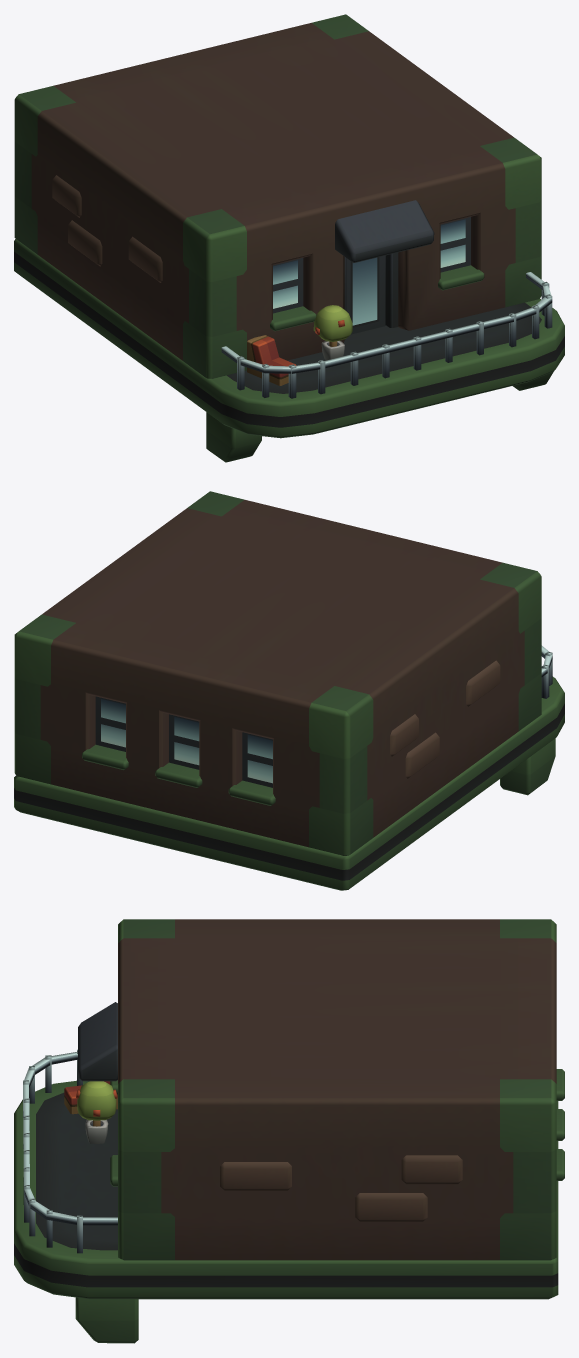
The model's file is appartment_type1_x4_balcony_brown.fbx.
The picture shows the model from 3 angles, top to bottom: view 1: azimuth 30°, elevation 25°; view 2: azimuth 150°, elevation 25°; view 3: azimuth 270°, elevation 25°; orthographic projection. The views are drawn at different scales.
Parts seen in each view (by area): view 1: appartment_type1_x4_balcony_brown, door_appartment_type1_x4_balcony_grey; view 2: appartment_type1_x4_balcony_brown; view 3: appartment_type1_x4_balcony_brown.
Boxes of the visible parts, x1,y1,x2,y2 form: appartment_type1_x4_balcony_brown: [14, 14, 564, 462]; door_appartment_type1_x4_balcony_grey: [346, 255, 385, 334]; appartment_type1_x4_balcony_brown: [14, 491, 564, 890]; appartment_type1_x4_balcony_brown: [14, 919, 564, 1343].
Bounding box in the file's own units: 819 × 505 × 1017.
